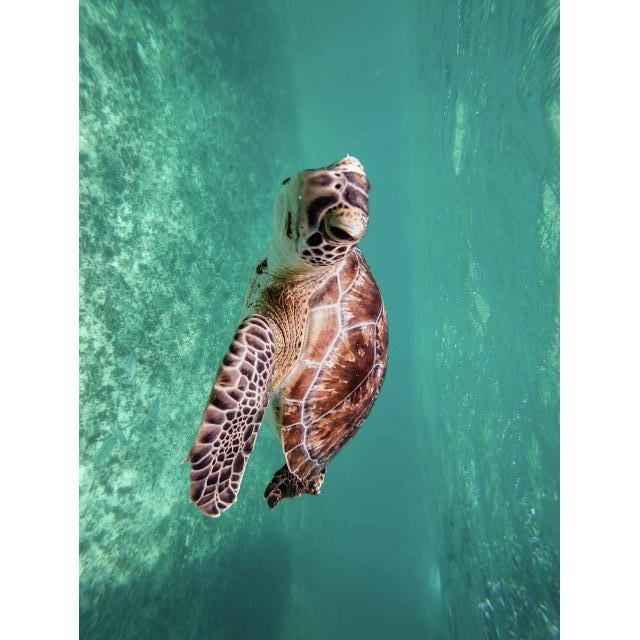turtle: (176, 155, 389, 517)
